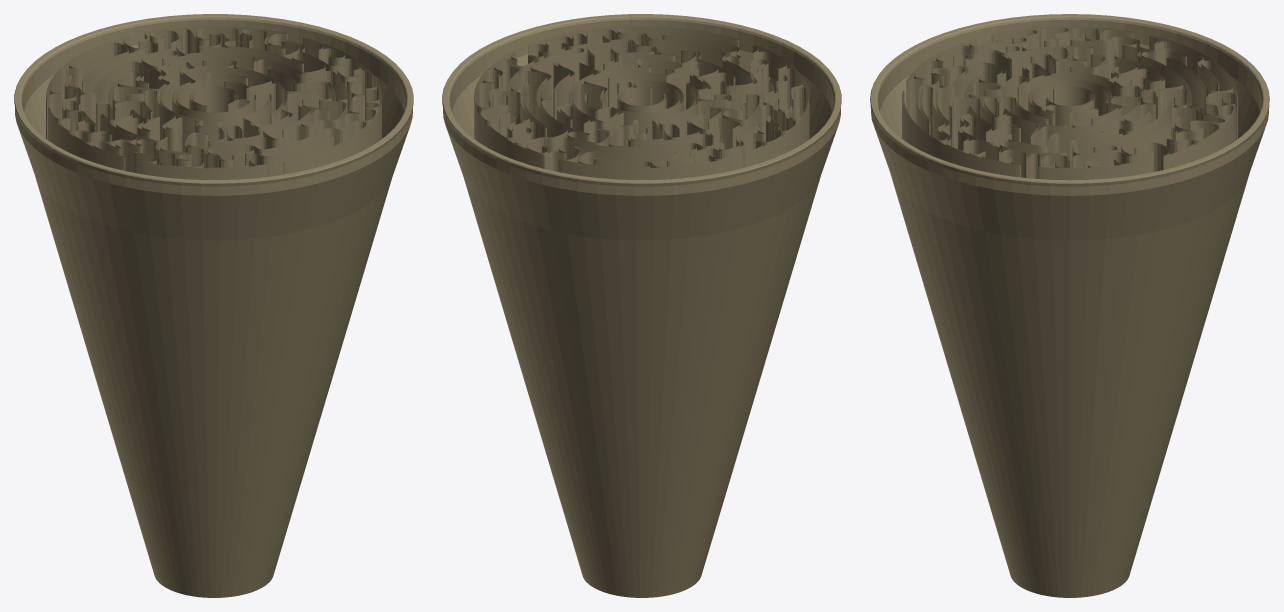
The model's file is maze.fbx.
3 renders of one model, left to right at view 1: azimuth 30°, elevation 25°; view 2: azimuth 150°, elevation 25°; view 3: azimuth 270°, elevation 25°, orthographic.
Visible parts, largest first — view 1: Outside, LAYER 1; view 2: Outside, LAYER 1; view 3: Outside, LAYER 1.
Boxes of the visible parts, left/top/right/bottom form: Outside: left=14, top=14, right=413, bottom=597; LAYER 1: left=46, top=26, right=381, bottom=179; Outside: left=442, top=14, right=841, bottom=597; LAYER 1: left=474, top=26, right=809, bottom=179; Outside: left=870, top=14, right=1269, bottom=597; LAYER 1: left=902, top=26, right=1237, bottom=180.
Bounding box in the file's own units: 3747 × 4924 × 3747.
